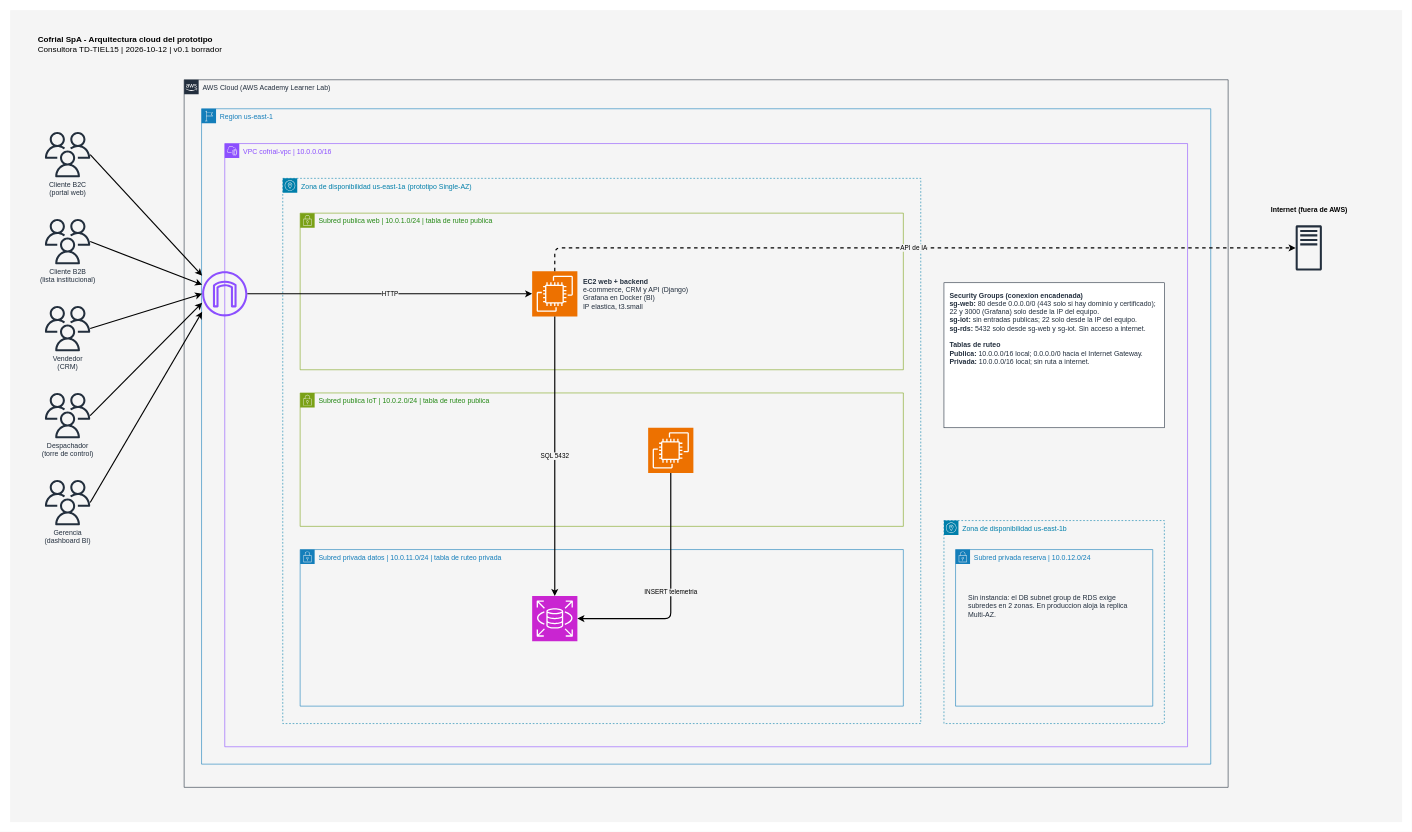
This 1412x832 diagram has some shape labels left out. Each missing label, with the centre of its shape:
"EC2 nodo IoT Docker Compose: un contenedor por camion (50 simulados) t3.small" belongs at point 670,450.
"Google Gemini API (free tier; Groq de respaldo)" belongs at point 1308,247.
"Internet Gateway" belongs at point 224,293.
"RDS PostgreSQL db.t3.micro, Single-AZ respaldos automaticos" belongs at point 554,618.
